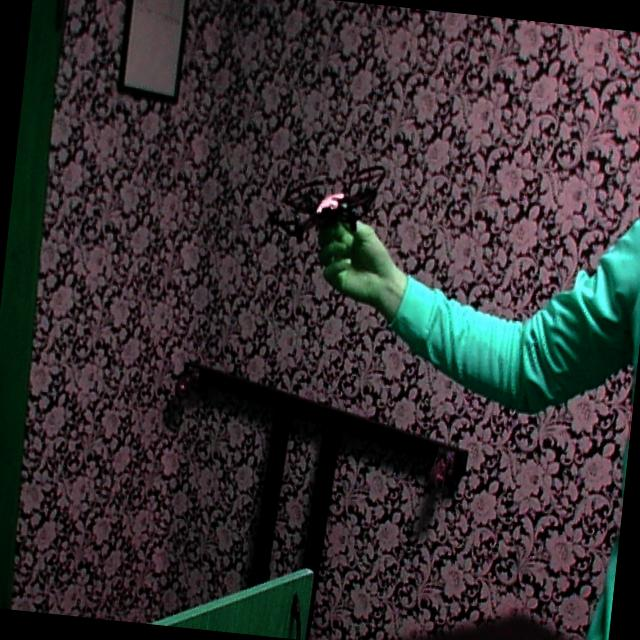drone: (259, 149, 392, 272)
